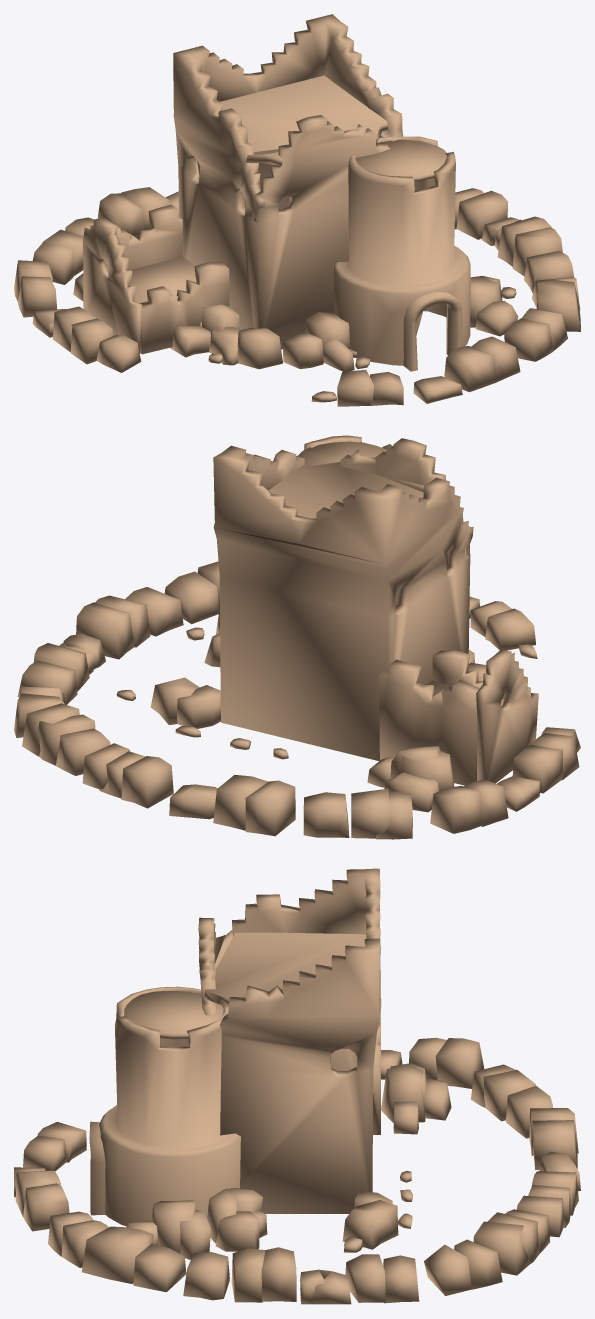
Rendered from castle_d3.6.glb.
The picture shows the model from 3 angles, top to bottom: view 1: azimuth 30°, elevation 25°; view 2: azimuth 150°, elevation 25°; view 3: azimuth 270°, elevation 25°; orthographic projection. The views are drawn at different scales.
Visible parts, largest first — view 1: castle_d3.6; view 2: castle_d3.6; view 3: castle_d3.6.
Boxes of the visible parts, left/top/right/bottom form: castle_d3.6: left=14, top=14, right=580, bottom=406; castle_d3.6: left=14, top=435, right=580, bottom=839; castle_d3.6: left=14, top=868, right=580, bottom=1304.
Bounding box in the file's own units: 2.9 × 1.51 × 2.9.
